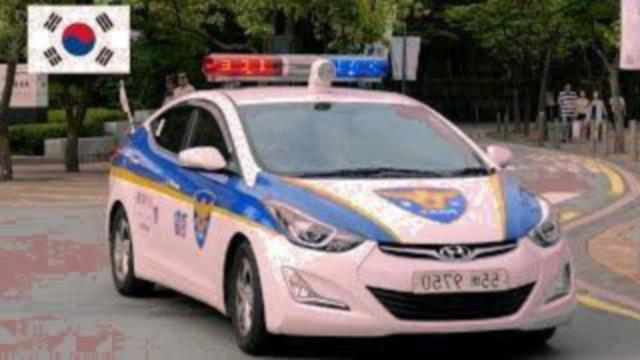police: (106, 54, 578, 346)
